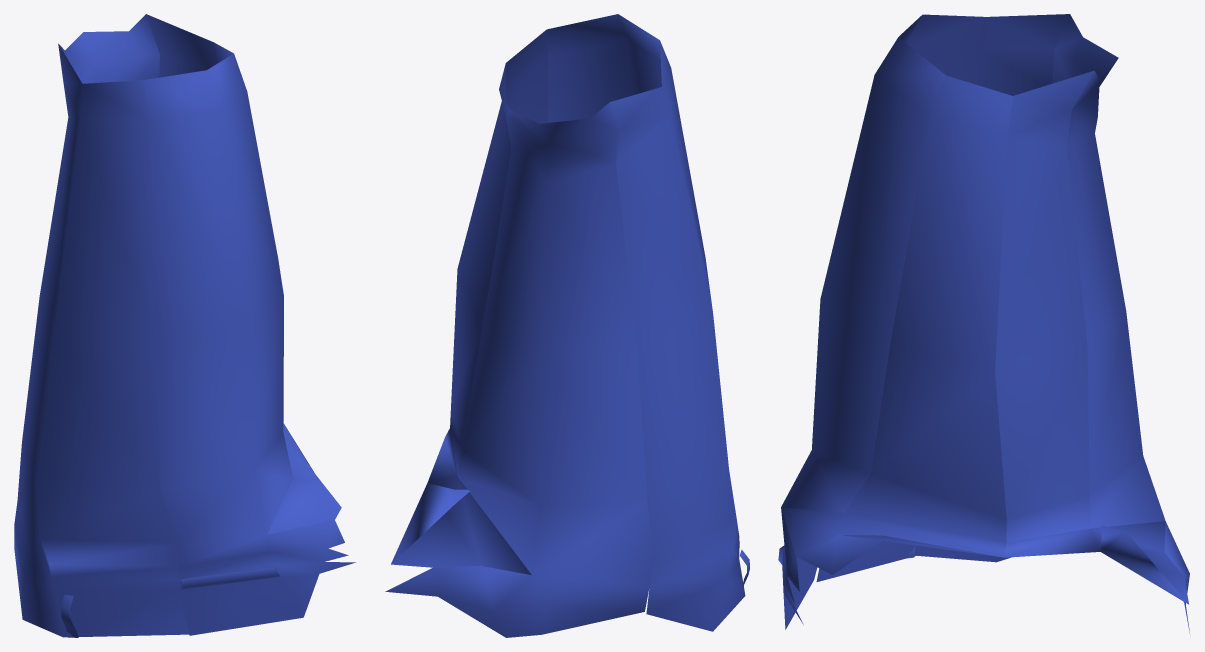
Rendered from left_up_leg.glb.
3 renders of one model, left to right at view 1: azimuth 30°, elevation 25°; view 2: azimuth 150°, elevation 25°; view 3: azimuth 270°, elevation 25°, orthographic. The views are drawn at different scales.
Visible parts, largest first — view 1: trousers-blue_LEFT_UP_LEG; view 2: trousers-blue_LEFT_UP_LEG; view 3: trousers-blue_LEFT_UP_LEG.
Part boxes in pixels (<box>): trousers-blue_LEFT_UP_LEG: <box>14,14,355,637</box>; trousers-blue_LEFT_UP_LEG: <box>385,14,749,637</box>; trousers-blue_LEFT_UP_LEG: <box>778,14,1189,633</box>.
Bounding box in the file's own units: 0.2605 × 0.5071 × 0.3159.
Materials: 1 (1 with a texture image).
